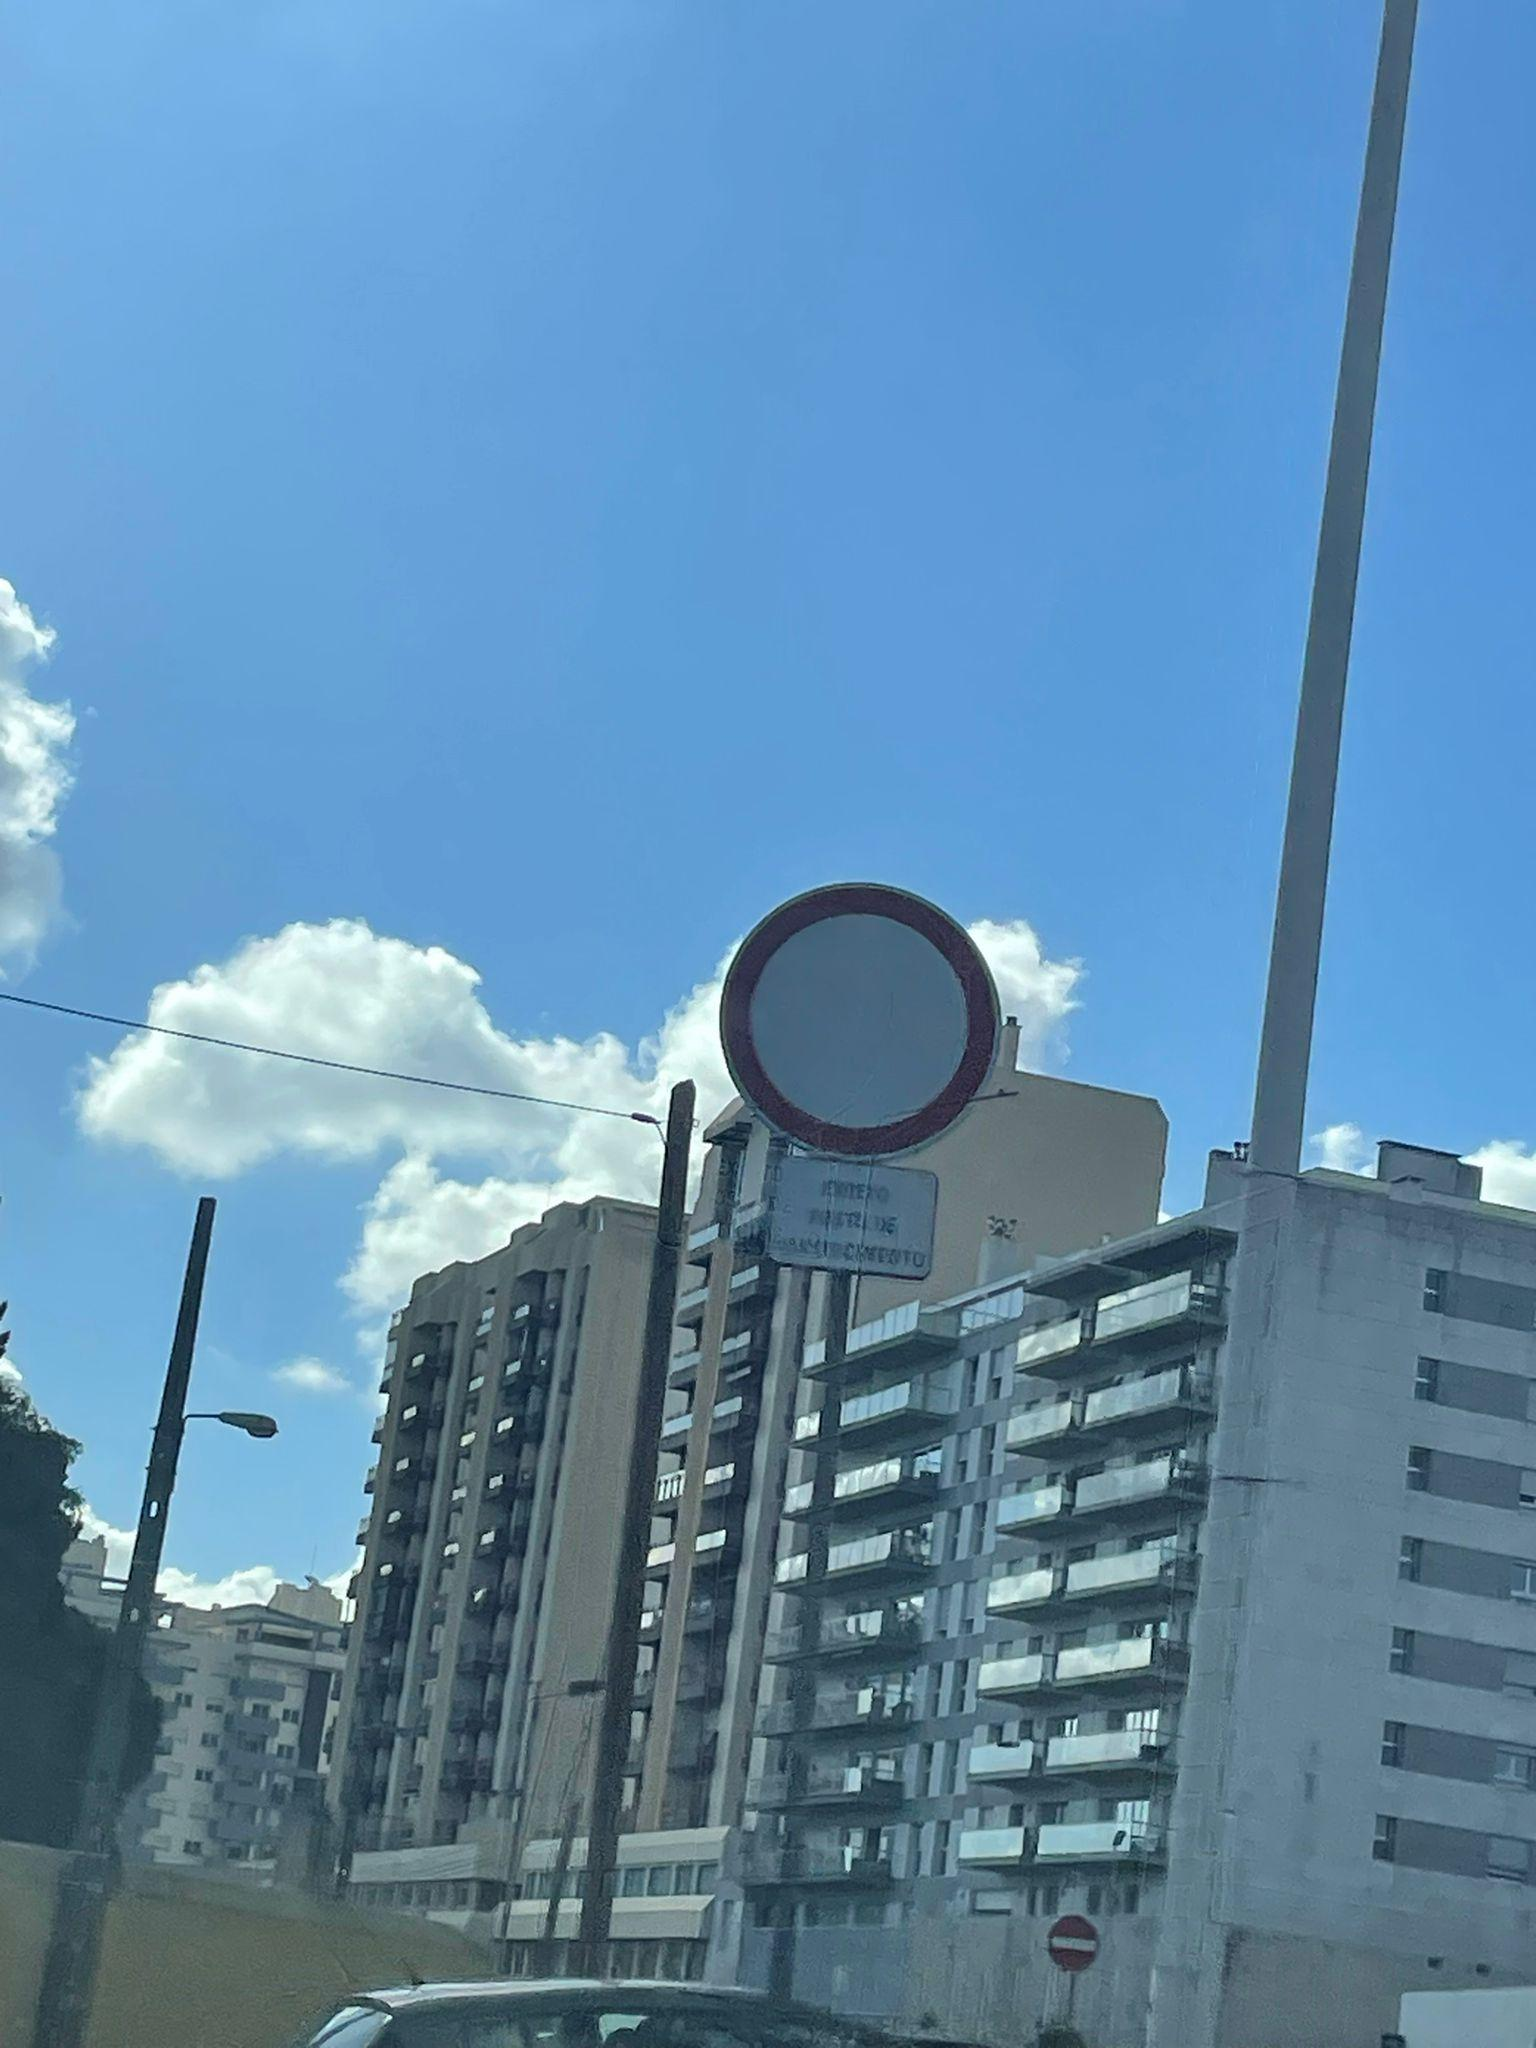zona de transito proibido: (720, 871, 991, 1168)
